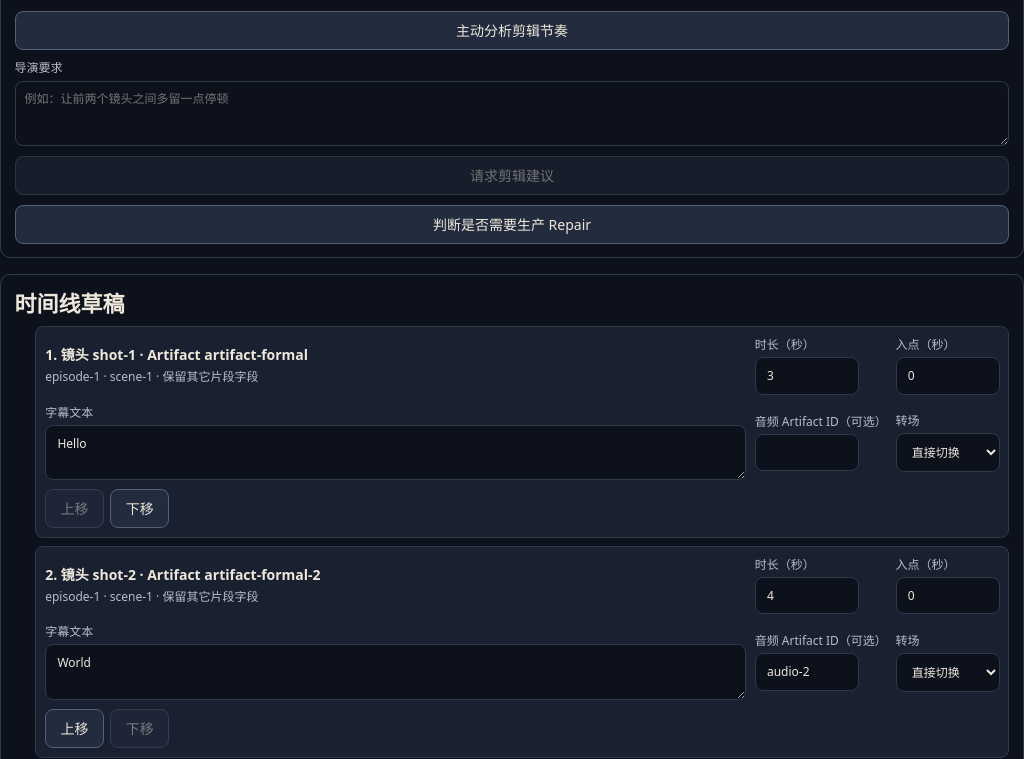
Test: EditingWorkspace › saves only clips and metadata, then resets clean baseline from server response
(page scrolled)
Replace the text in the number field named "镜头 1 时长" with "2.25": coordinates (807, 376) [755,357,859,395]
(page scrolled)
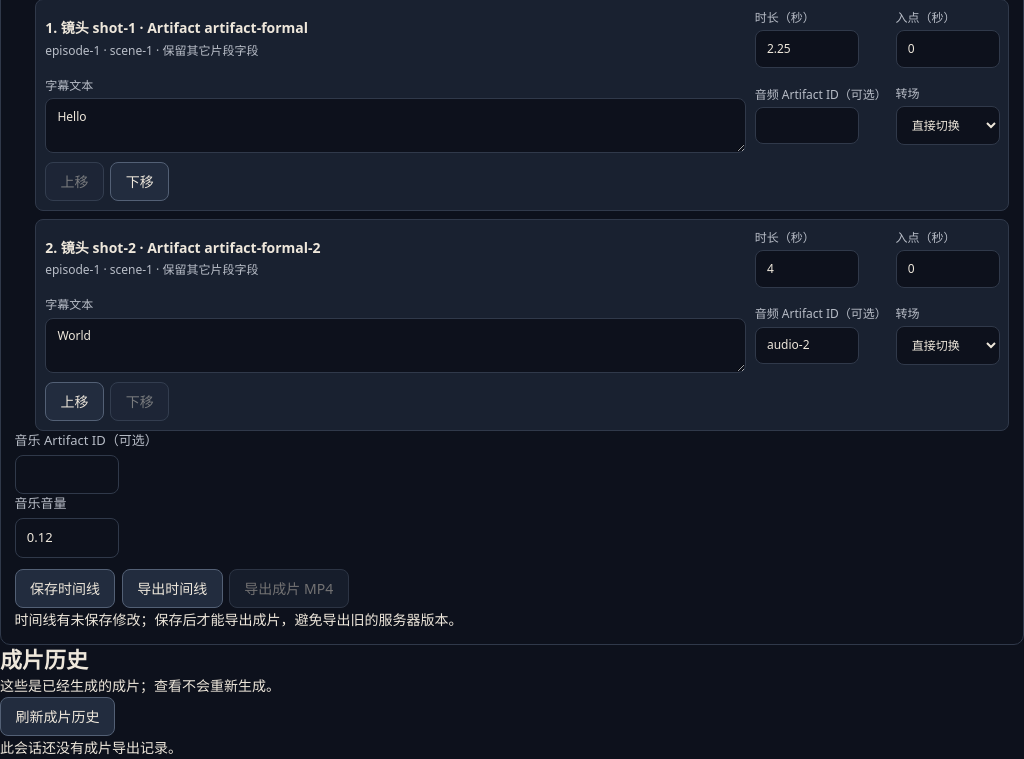
Click the button with test id "save-edit-timeline": coordinates (65, 588) [15,569,115,608]
(page scrolled)
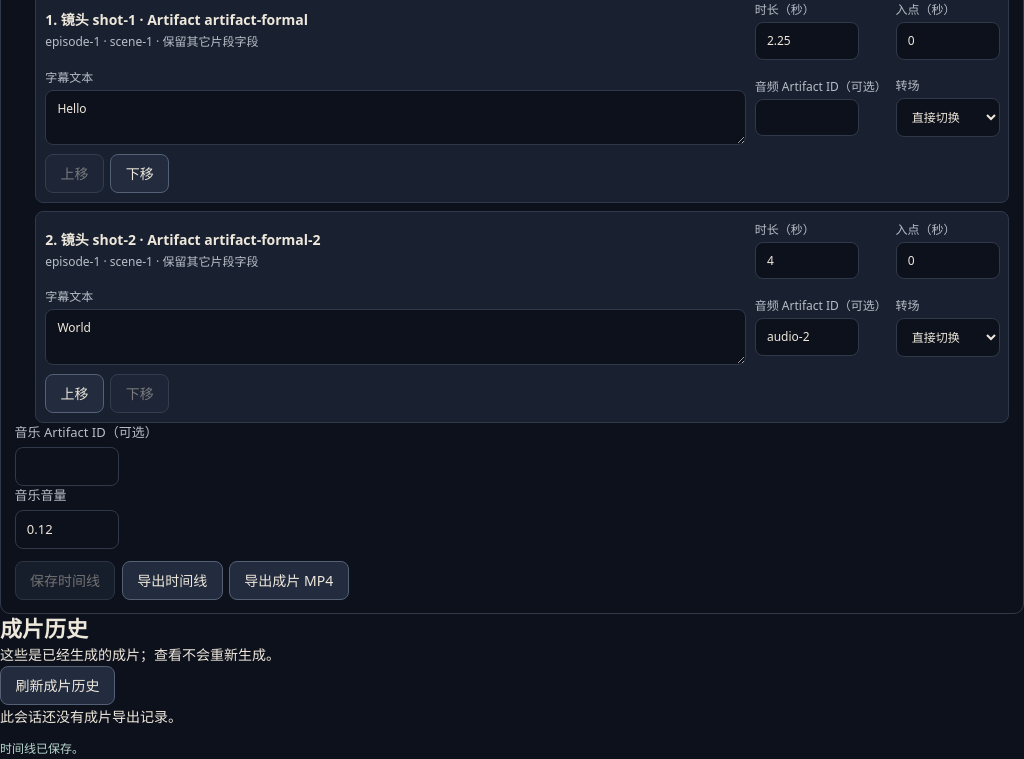
Check: the button with test id "save-edit-timeline" is disabled, box [15,561,115,600]
Check: the text "时间线已保存。" is shown, box [0,740,84,757]
